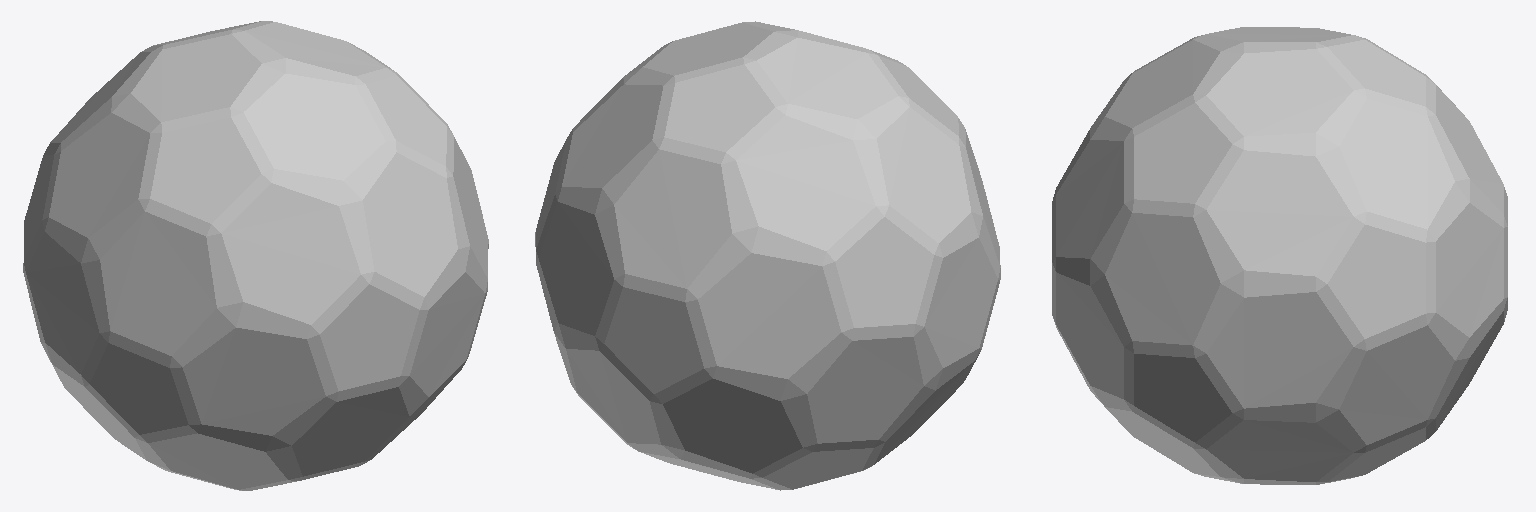
Rendered from white_football.obj.
3 views of the same model, side by side, from view 1: azimuth 30°, elevation 25°; view 2: azimuth 150°, elevation 25°; view 3: azimuth 270°, elevation 25° (orthographic).
Visible parts, largest first — view 1: Icosphere_Icosphere.003; view 2: Icosphere_Icosphere.003; view 3: Icosphere_Icosphere.003.
Part boxes in pixels (x1,y1,x2,y2): Icosphere_Icosphere.003: (23,21,488,490); Icosphere_Icosphere.003: (535,21,1000,490); Icosphere_Icosphere.003: (1052,27,1507,484).
Bounding box in the file's own units: 0.5028 × 0.523 × 0.5127.